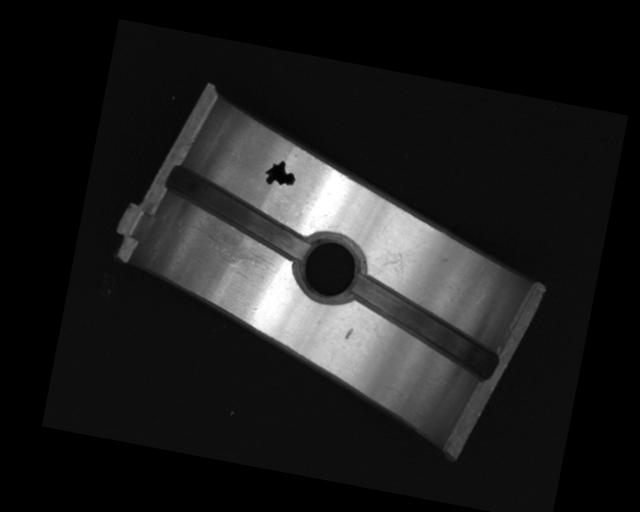blot: (261, 156, 299, 189)
bruise: (343, 325, 353, 341)
gap: (341, 274, 507, 379), (157, 163, 320, 259)
hole: (293, 227, 367, 304)
scratch: (182, 212, 283, 276)
